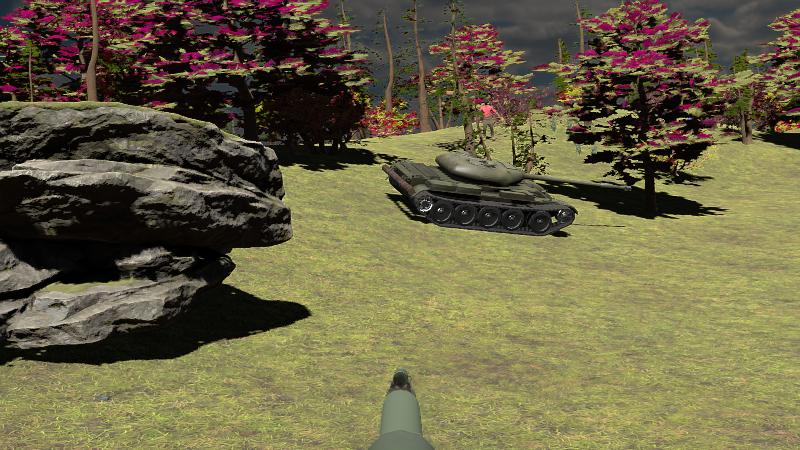Tank: (380, 152, 632, 236)
